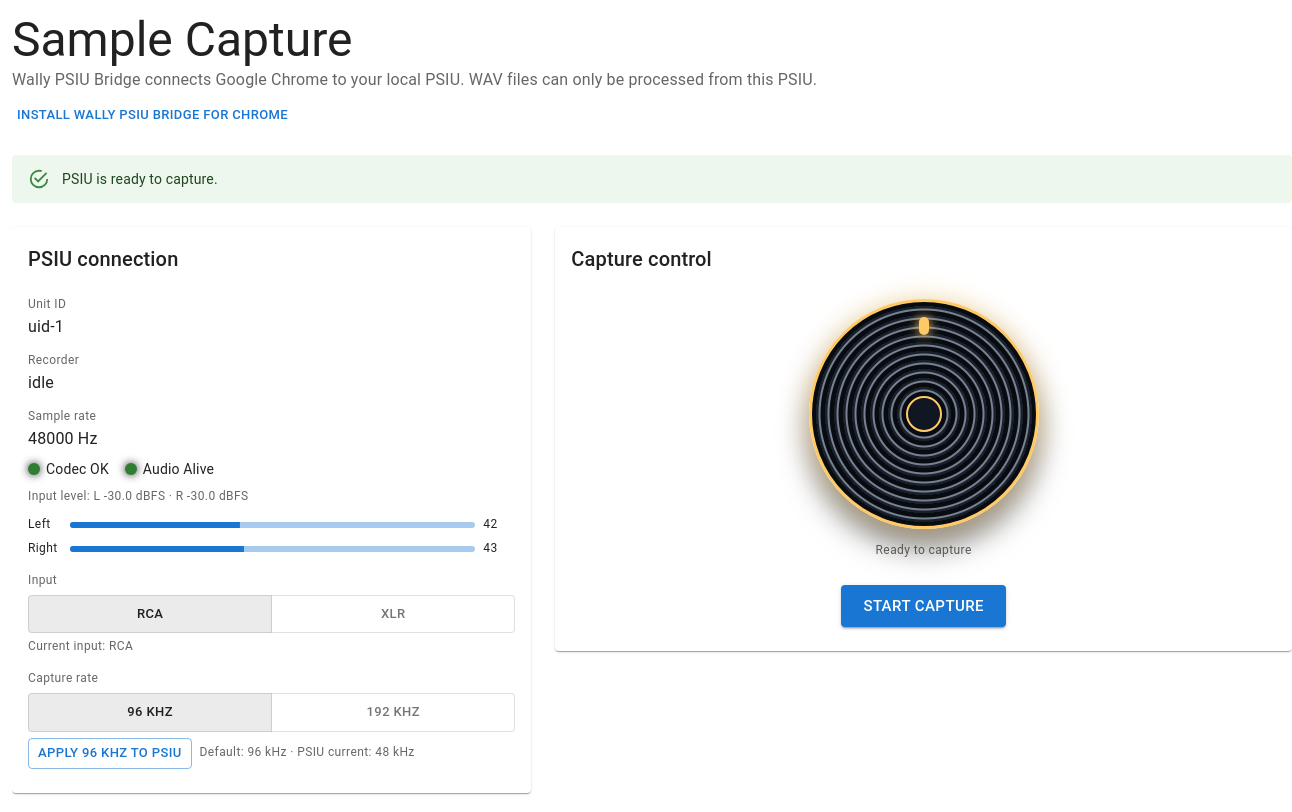
Test: PSIU-only capture process flow › shows the selected input and changes it through the PSIU client
Expected: the text "Current input: RCA" is shown, x1=28 y1=639 x2=133 y2=653
Click the button with aria-label "Select XLR input" at (393, 614), box x1=271 y1=594 x2=515 y2=633
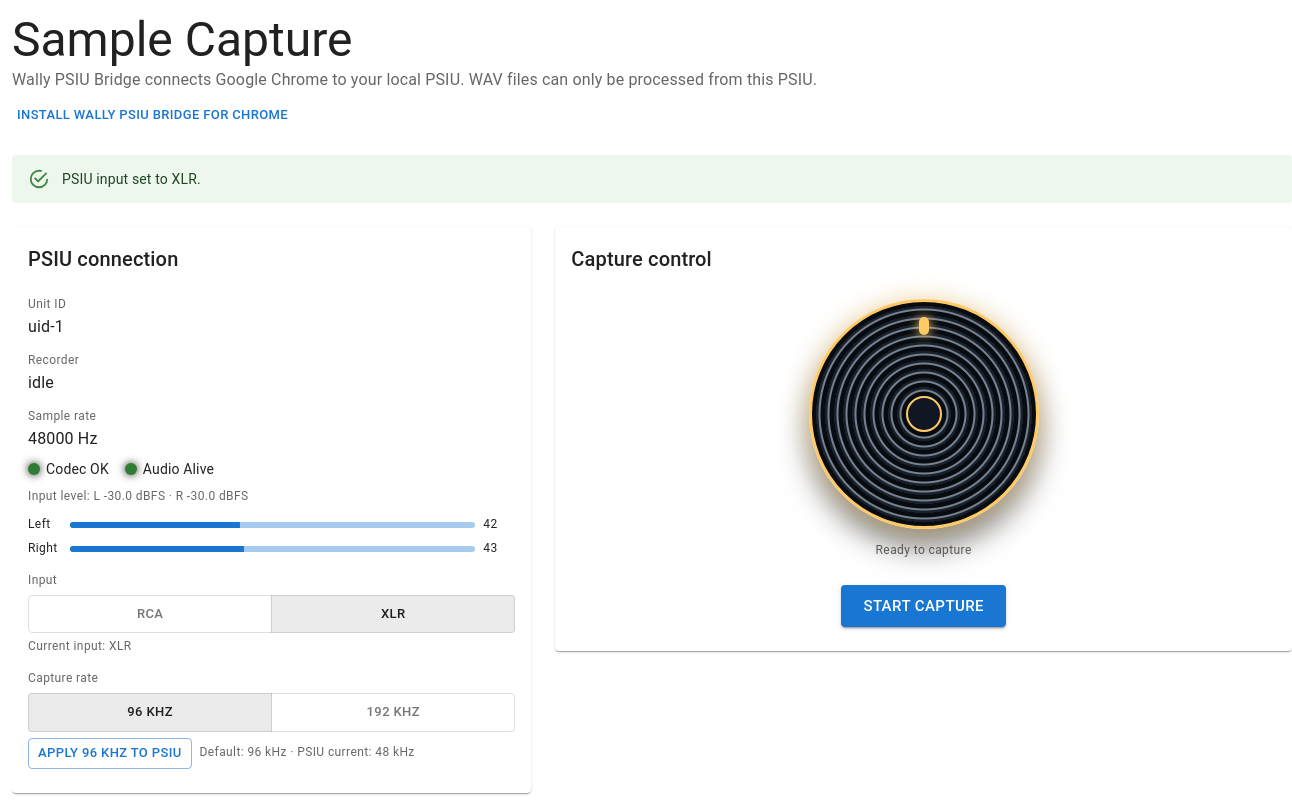
Result: the text "Current input: XLR" is shown at x1=28 y1=639 x2=132 y2=653
